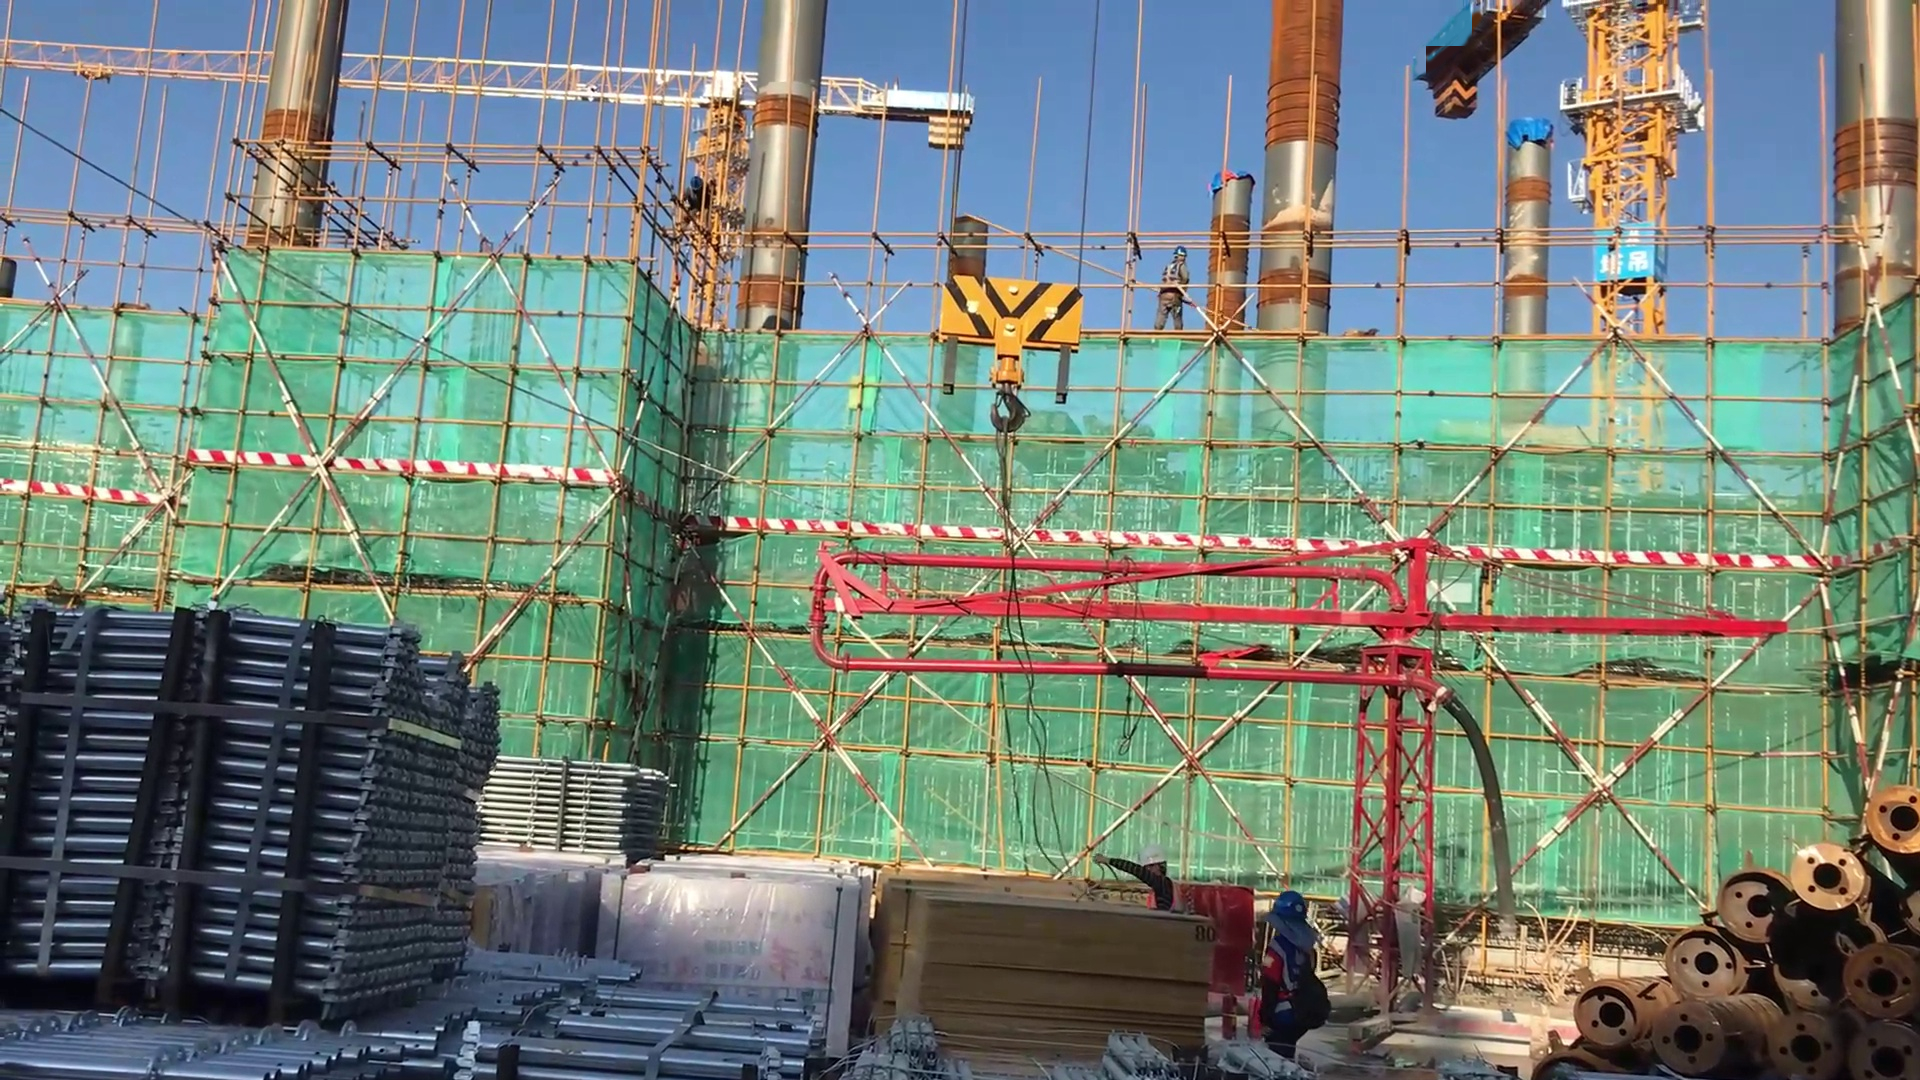board: (873, 869, 1211, 1066)
helmet: (1269, 888, 1310, 922), (1139, 848, 1171, 870), (1169, 243, 1188, 259)
hook: (920, 249, 1101, 441)
person: (1249, 879, 1334, 1071), (1067, 849, 1185, 912), (1152, 239, 1200, 345)
scaffold: (1, 606, 508, 994), (1, 960, 613, 1076), (491, 992, 845, 1071), (872, 1006, 1168, 1080), (483, 760, 683, 855)
slogan: (1595, 230, 1668, 295)
vest: (1259, 928, 1323, 1034), (1144, 882, 1185, 910), (1162, 261, 1190, 296)
